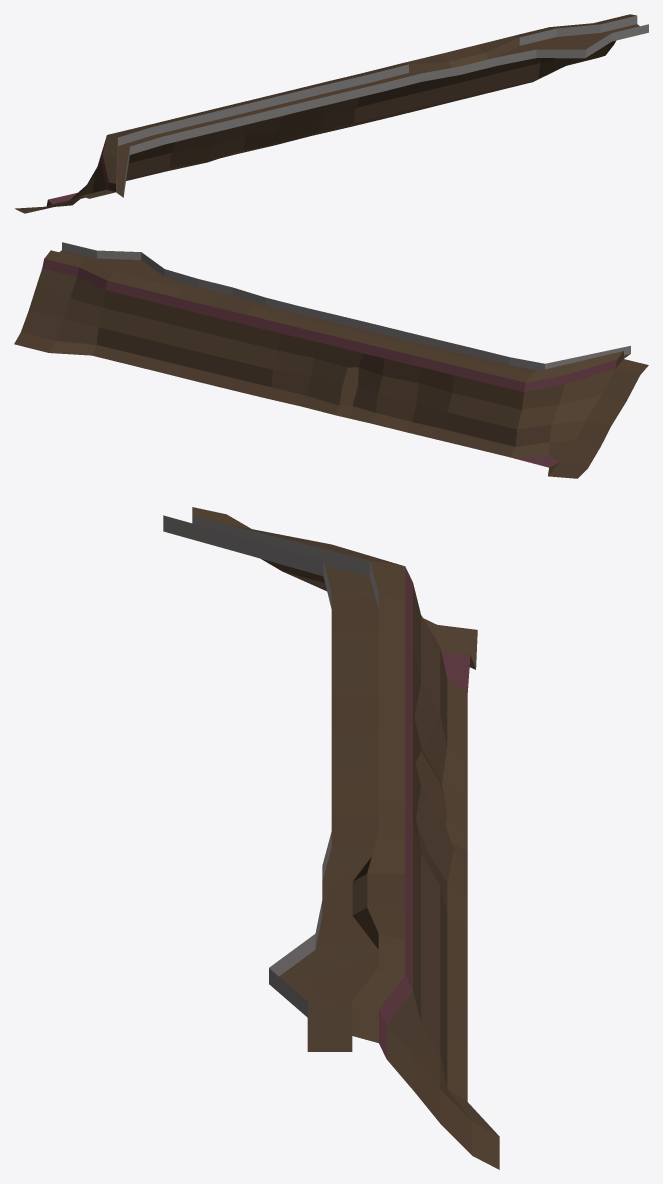
File: cliffs.fbx
3 renders of one model, top to bottom at view 1: azimuth 30°, elevation 25°; view 2: azimuth 150°, elevation 25°; view 3: azimuth 270°, elevation 25°, orthographic. The views are drawn at different scales.
Visible parts, largest first — view 1: omaha; view 2: omaha; view 3: omaha.
Boxes of the visible parts, x1,y1,x2,y2 form: omaha: (15,14,648,213); omaha: (14,242,648,478); omaha: (163,507,499,1169).
Size of the model in its own units: 11450 by 1466 by 2985.
